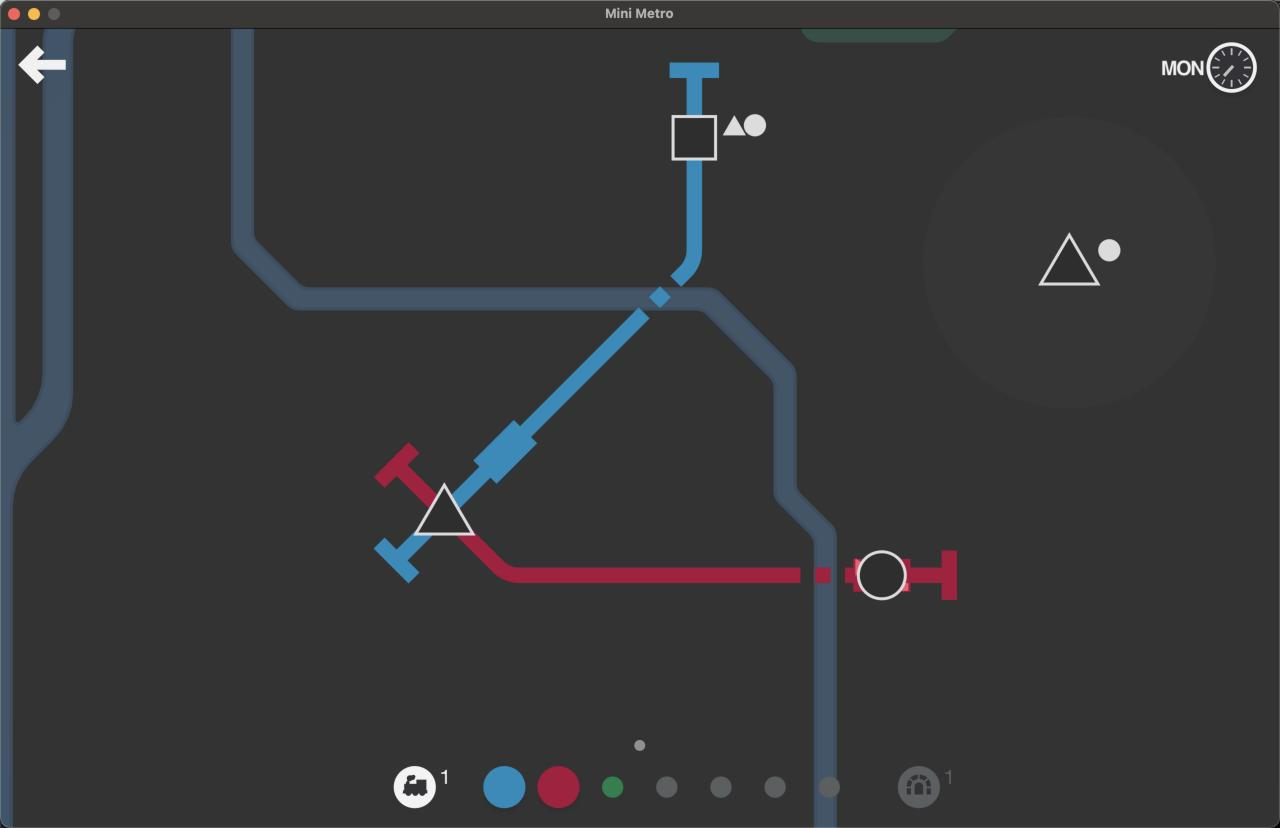CIRCLE: (854, 549, 910, 601), (818, 776, 841, 797)
SQUARE: (670, 113, 719, 163)
TRIANGLE: (412, 482, 480, 537), (1037, 232, 1103, 287)
